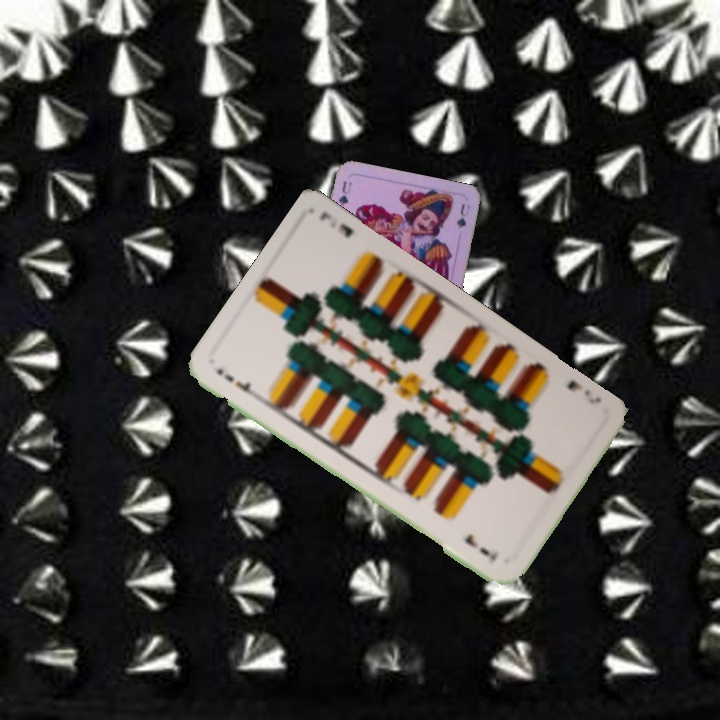E7: (211, 364, 263, 399), (563, 375, 604, 407)
GU: (334, 177, 355, 209)
